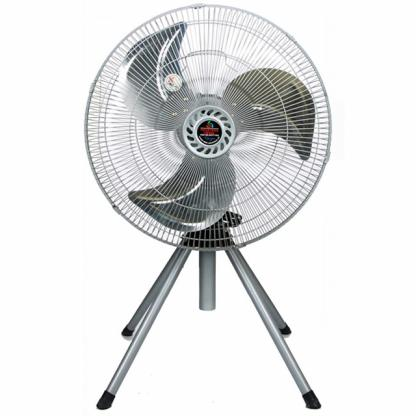fan: (72, 3, 358, 416)
